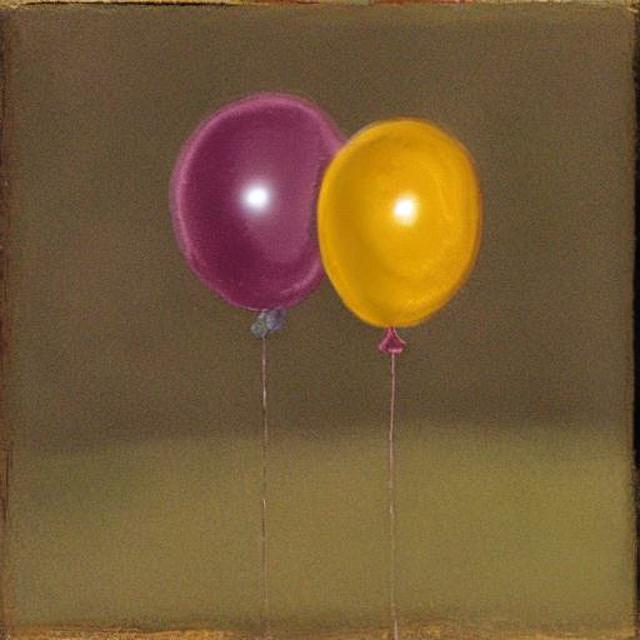balloon: (162, 83, 470, 328)
